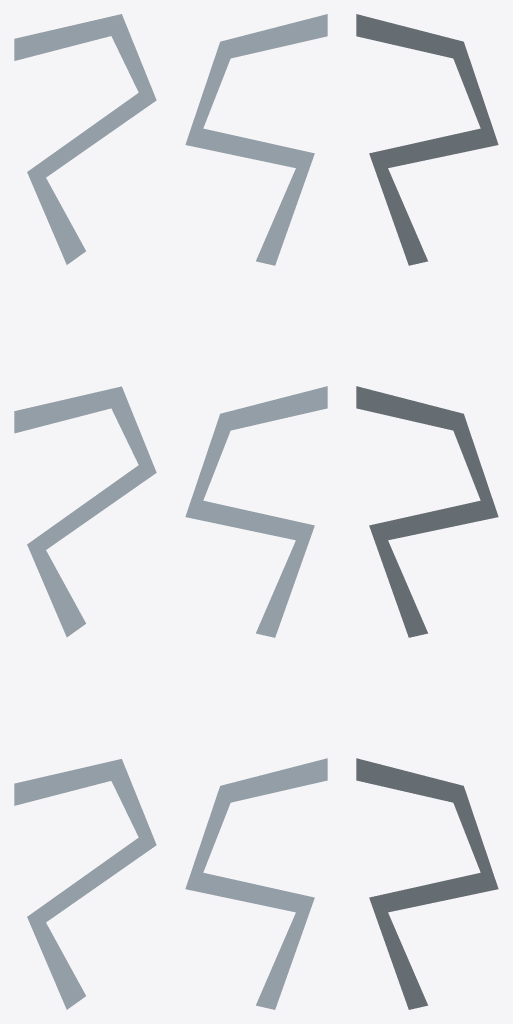
Rendered from Chongyun_IceBladeFollowup_ThreeTargets_SpiritSwordAuthoredSeal.fbx.
3 views of the same model, side by side, from view 1: azimuth 30°, elevation 25°; view 2: azimuth 210°, elevation 25°; view 3: azimuth 330°, elevation 25° (orthographic).
Visible parts, largest first — view 1: PART_AuthoredSpiritSwordSeal_0, PART_AuthoredSpiritSwordSeal_1, PART_AuthoredSpiritSwordSeal_2; view 2: PART_AuthoredSpiritSwordSeal_1, PART_AuthoredSpiritSwordSeal_0, PART_AuthoredSpiritSwordSeal_2; view 3: PART_AuthoredSpiritSwordSeal_1, PART_AuthoredSpiritSwordSeal_0, PART_AuthoredSpiritSwordSeal_2.
Part boxes in pixels (x1=…): PART_AuthoredSpiritSwordSeal_0: x1=14, y1=759, x2=156, y2=1009; PART_AuthoredSpiritSwordSeal_1: x1=14, y1=386, x2=156, y2=637; PART_AuthoredSpiritSwordSeal_2: x1=14, y1=14, x2=156, y2=264; PART_AuthoredSpiritSwordSeal_1: x1=185, y1=386, x2=327, y2=637; PART_AuthoredSpiritSwordSeal_0: x1=185, y1=758, x2=327, y2=1009; PART_AuthoredSpiritSwordSeal_2: x1=185, y1=14, x2=327, y2=265; PART_AuthoredSpiritSwordSeal_1: x1=356, y1=386, x2=498, y2=637; PART_AuthoredSpiritSwordSeal_0: x1=356, y1=758, x2=498, y2=1009; PART_AuthoredSpiritSwordSeal_2: x1=356, y1=14, x2=498, y2=265.
Bounding box in the file's own units: 16.01 × 106 × 1.72e-05.
